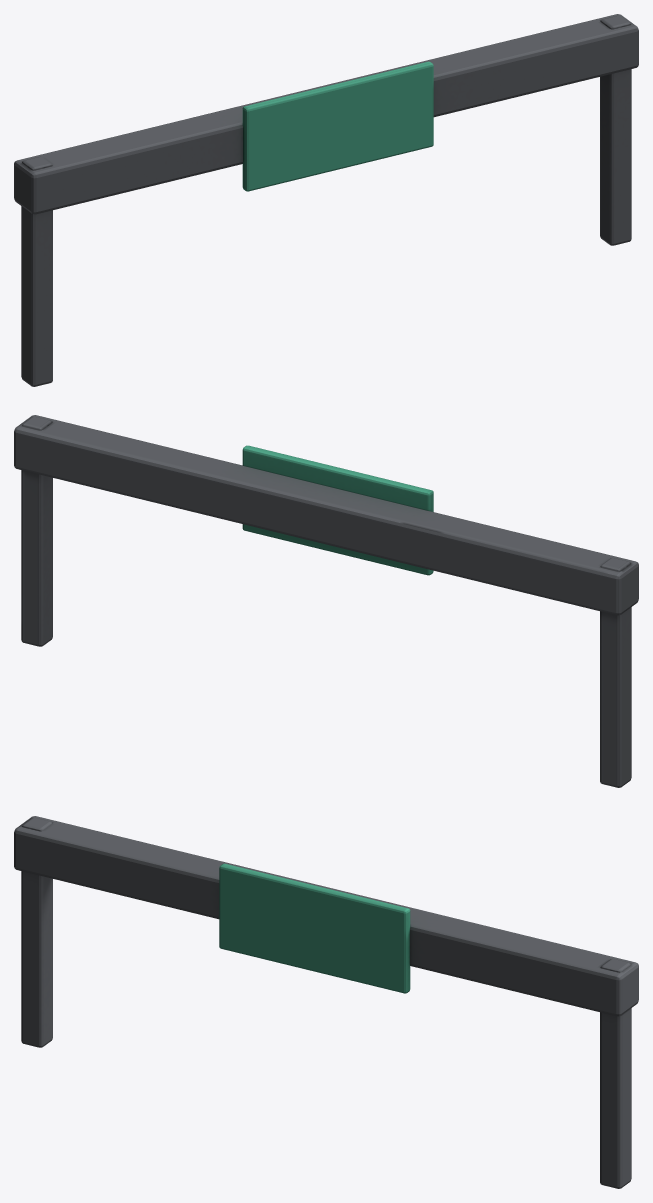
Rendered from gantry.glb.
3 views of the same model, one above another, from view 1: azimuth 30°, elevation 25°; view 2: azimuth 150°, elevation 25°; view 3: azimuth 330°, elevation 25° (orthographic).
Parts seen in each view (by area): view 1: gantry; view 2: gantry; view 3: gantry.
Part boxes in pixels (x1,y1,x2,y2): gantry: (14,14,638,386); gantry: (14,415,638,787); gantry: (14,816,638,1188).
Bounding box in the file's own units: 8.4 × 3.1 × 0.59.
2 materials, 2 textured.
